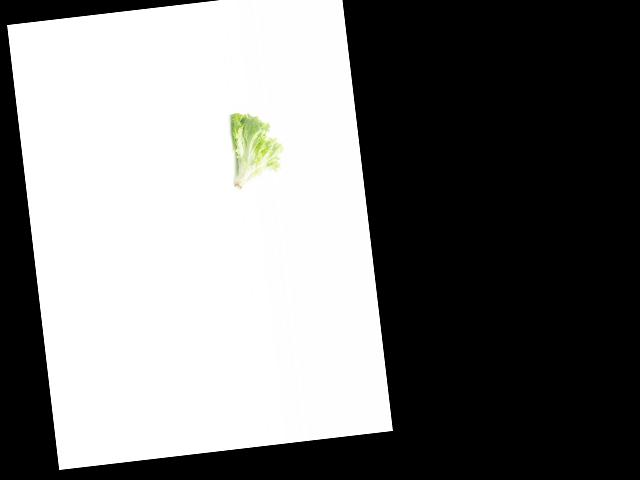lettuce: (224, 108, 288, 191)
